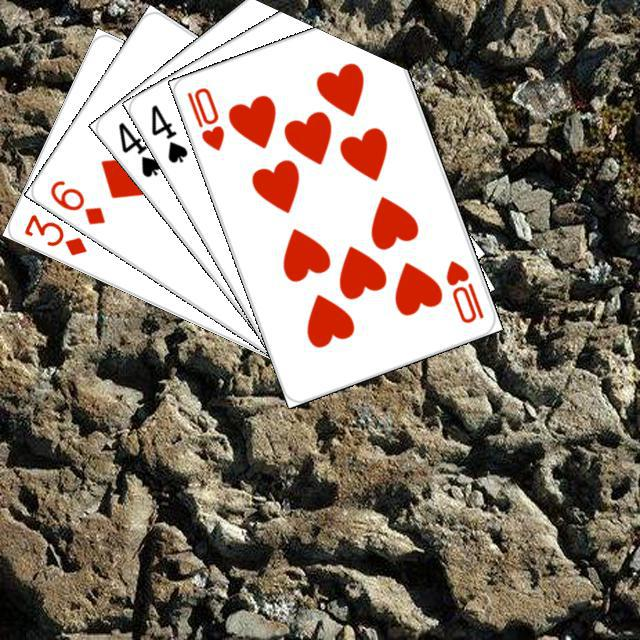10h: (440, 255, 486, 325), (181, 82, 226, 153)
3d: (19, 208, 89, 257)
4s: (113, 117, 164, 180), (146, 99, 190, 165)
6d: (45, 175, 107, 227)
